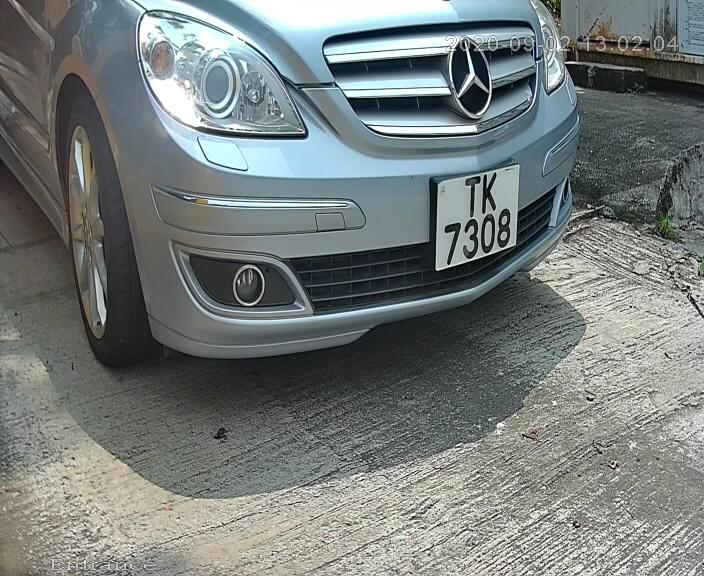License Plate: (428, 155, 525, 278)
